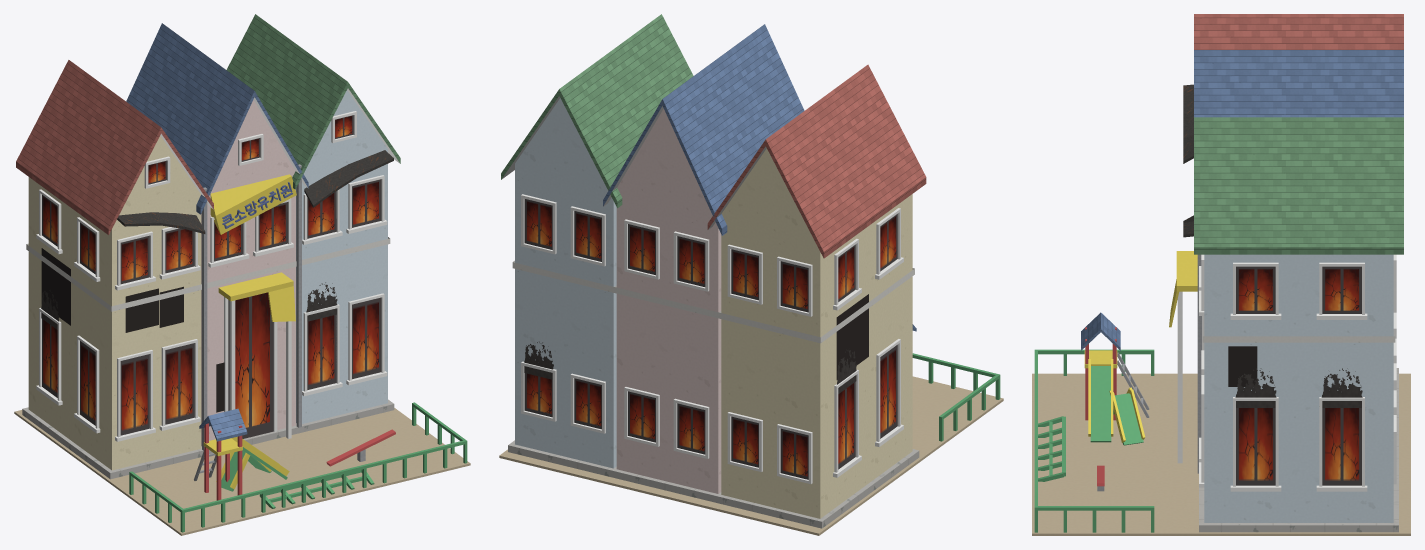
File: Story02_큰소망유치원_화남.fbx
3 renders of one model, left to right at view 1: azimuth 30°, elevation 25°; view 2: azimuth 150°, elevation 25°; view 3: azimuth 270°, elevation 25°, orthographic. The views are drawn at different scales.
Visible parts, largest first — view 1: Story02_큰소망유치원_화남; view 2: Story02_큰소망유치원_화남; view 3: Story02_큰소망유치원_화남.
Boxes of the visible parts, x1,y1,x2,y2 form: Story02_큰소망유치원_화남: (14,14,470,535); Story02_큰소망유치원_화남: (499,14,1003,535); Story02_큰소망유치원_화남: (1032,14,1410,535).
Size of the model in its own units: 4440 by 5200 by 4400.
19 materials, 19 textured.
